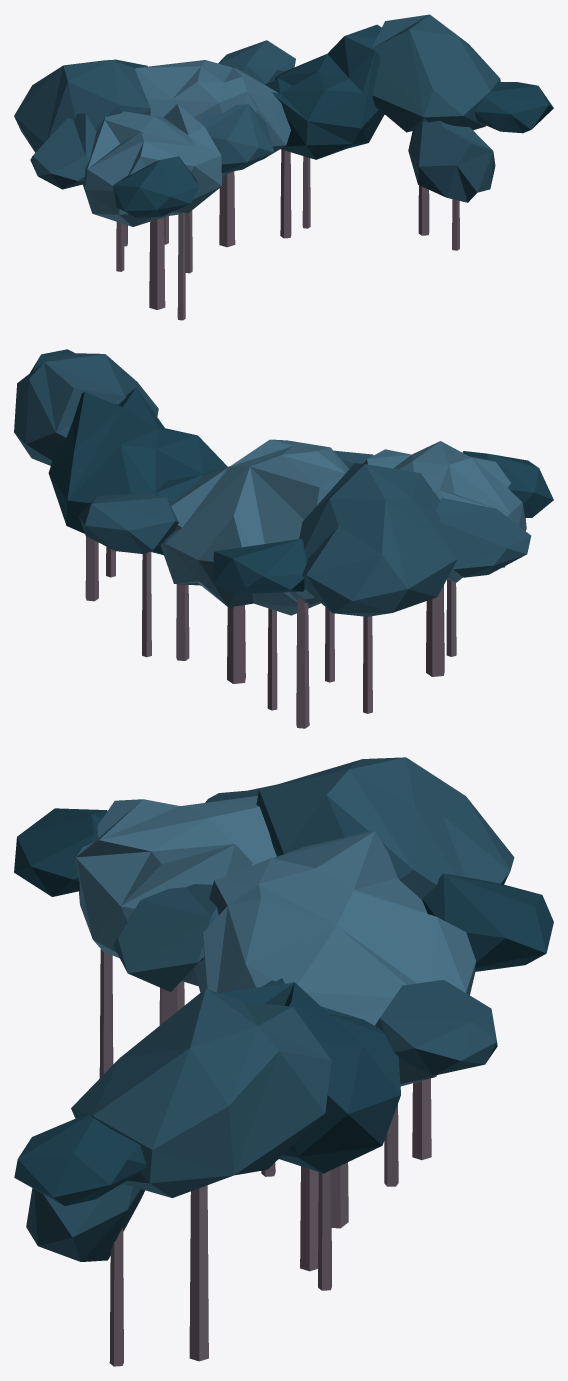
The model's file is SM_Generic_Tree_Patch_02.fbx.
3 renders of one model, top to bottom at view 1: azimuth 30°, elevation 25°; view 2: azimuth 150°, elevation 25°; view 3: azimuth 270°, elevation 25°, orthographic. The views are drawn at different scales.
Visible parts, largest first — view 1: SM_Generic_Tree_Patch_02; view 2: SM_Generic_Tree_Patch_02; view 3: SM_Generic_Tree_Patch_02.
Part boxes in pixels (x1,y1,x2,y2): SM_Generic_Tree_Patch_02: [14, 14, 553, 320]; SM_Generic_Tree_Patch_02: [14, 349, 553, 728]; SM_Generic_Tree_Patch_02: [14, 757, 553, 1366].
Size of the model in its own units: 24.65 by 10.63 by 14.42.
1 material, 1 textured.
